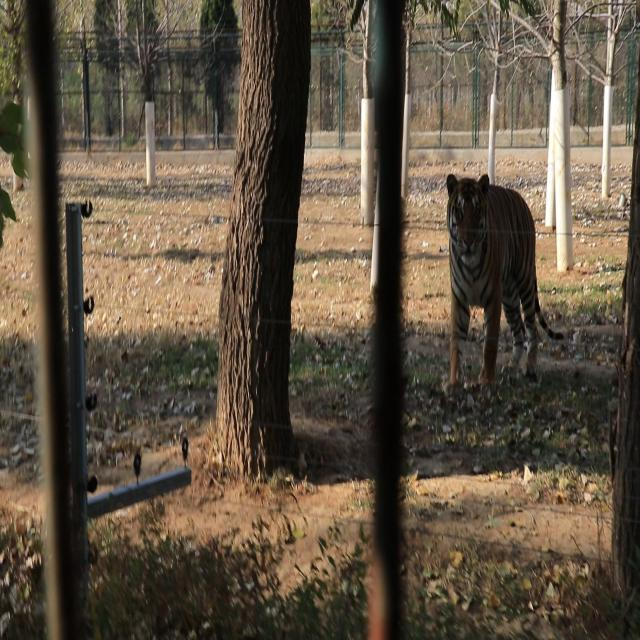Tiger: (433, 164, 566, 386)
